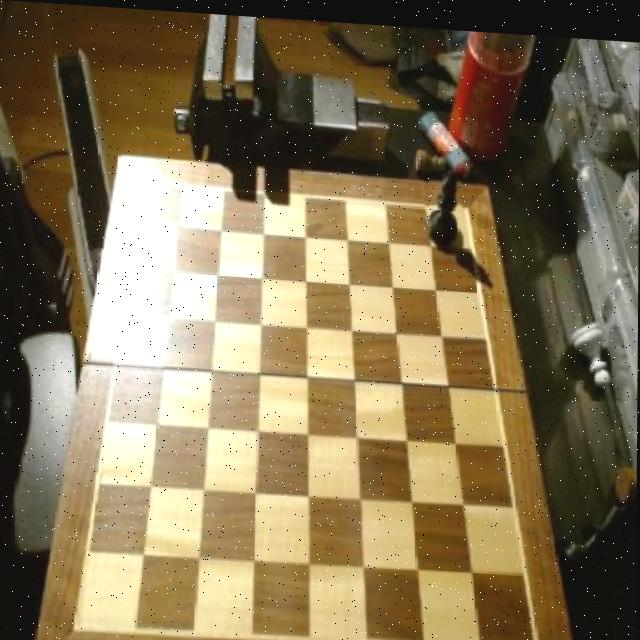bishop: (425, 161, 464, 243)
